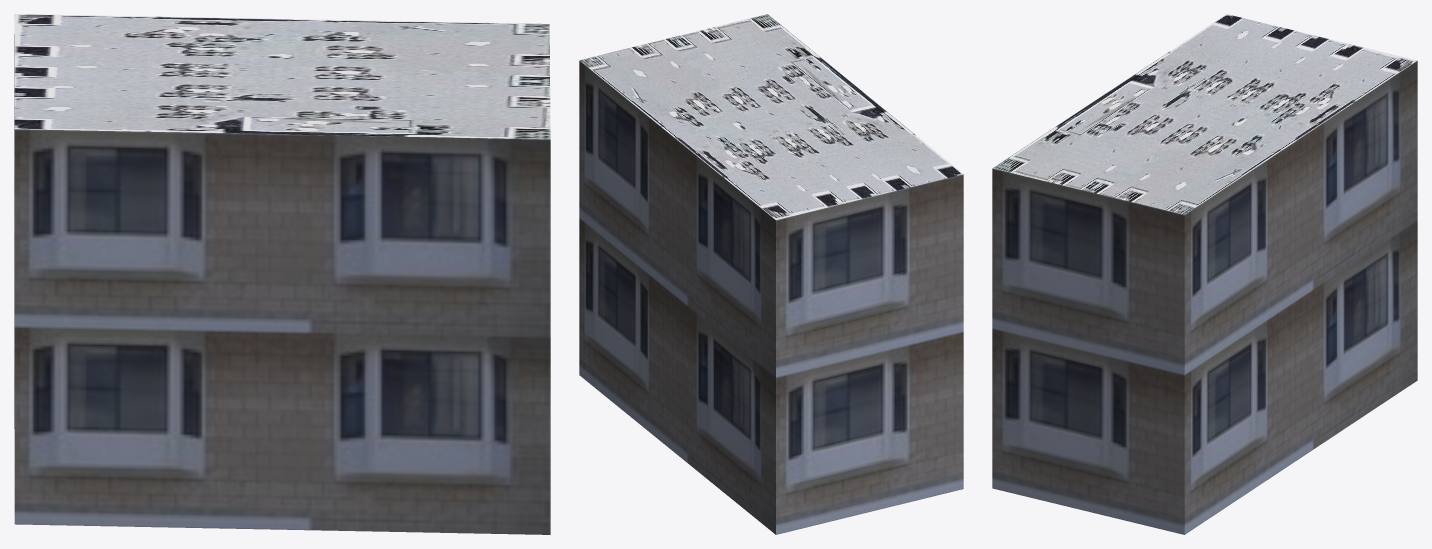
Rendered from ResTex__636.fbx.
3 renders of one model, left to right at view 1: azimuth 30°, elevation 25°; view 2: azimuth 150°, elevation 25°; view 3: azimuth 270°, elevation 25°, orthographic. The views are drawn at different scales.
Visible parts, largest first — view 1: CityEngineMaterial_3_m, CityEngineMaterial_4_m; view 2: CityEngineMaterial_3_m, CityEngineMaterial_4_m; view 3: CityEngineMaterial_3_m, CityEngineMaterial_4_m.
Part boxes in pixels (<box>): CityEngineMaterial_3_m: <box>14,34,550,534</box>; CityEngineMaterial_4_m: <box>14,14,550,139</box>; CityEngineMaterial_3_m: <box>579,61,963,534</box>; CityEngineMaterial_4_m: <box>579,14,963,219</box>; CityEngineMaterial_3_m: <box>992,61,1417,534</box>; CityEngineMaterial_4_m: <box>992,14,1417,214</box>.
Bounding box in the file's own units: 8.08 × 6 × 7.23.
2 materials, 2 textured.
